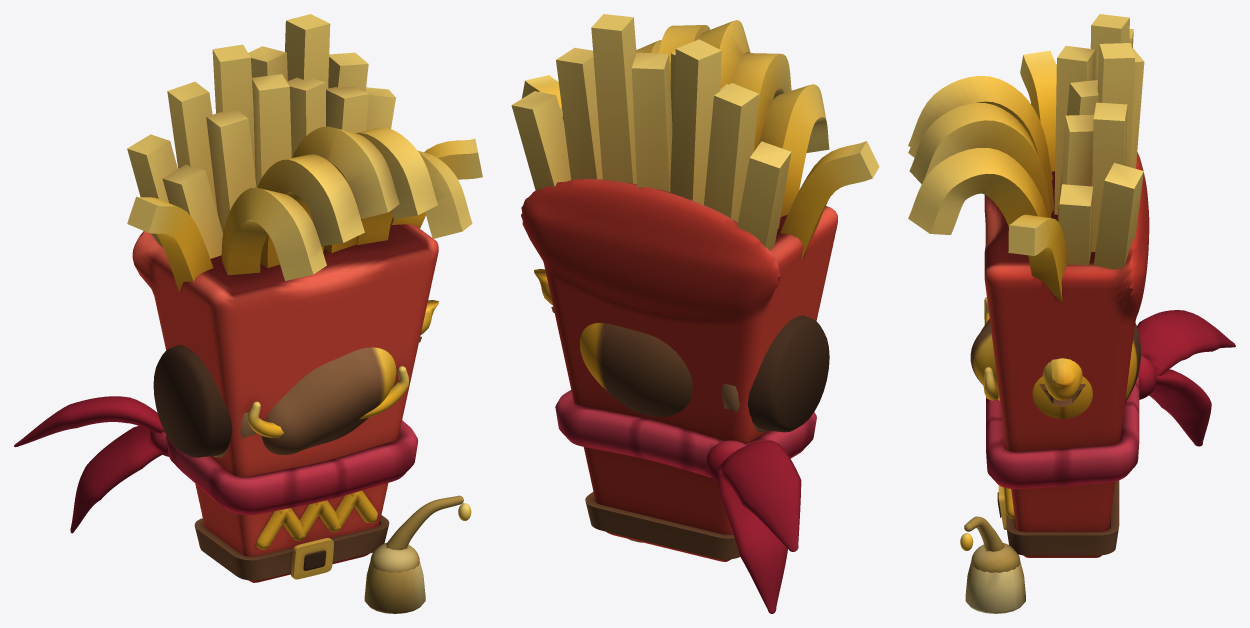
Rendered from fries.glb.
3 views of the same model, side by side, from view 1: azimuth 30°, elevation 25°; view 2: azimuth 150°, elevation 25°; view 3: azimuth 270°, elevation 25° (orthographic). The views are drawn at different scales.
Parts seen in each view (by area): view 1: body, hand; view 2: body, hand; view 3: body, hand, foot.
Boxes of the visible parts, x1,y1,x2,y2 form: body: (14, 14, 482, 613); hand: (153, 345, 396, 457); body: (511, 14, 879, 613); hand: (580, 315, 829, 432); body: (908, 14, 1235, 613); hand: (970, 319, 1140, 418); foot: (1039, 358, 1085, 406).
Bounding box in the file's own units: 123 × 174 × 96.
